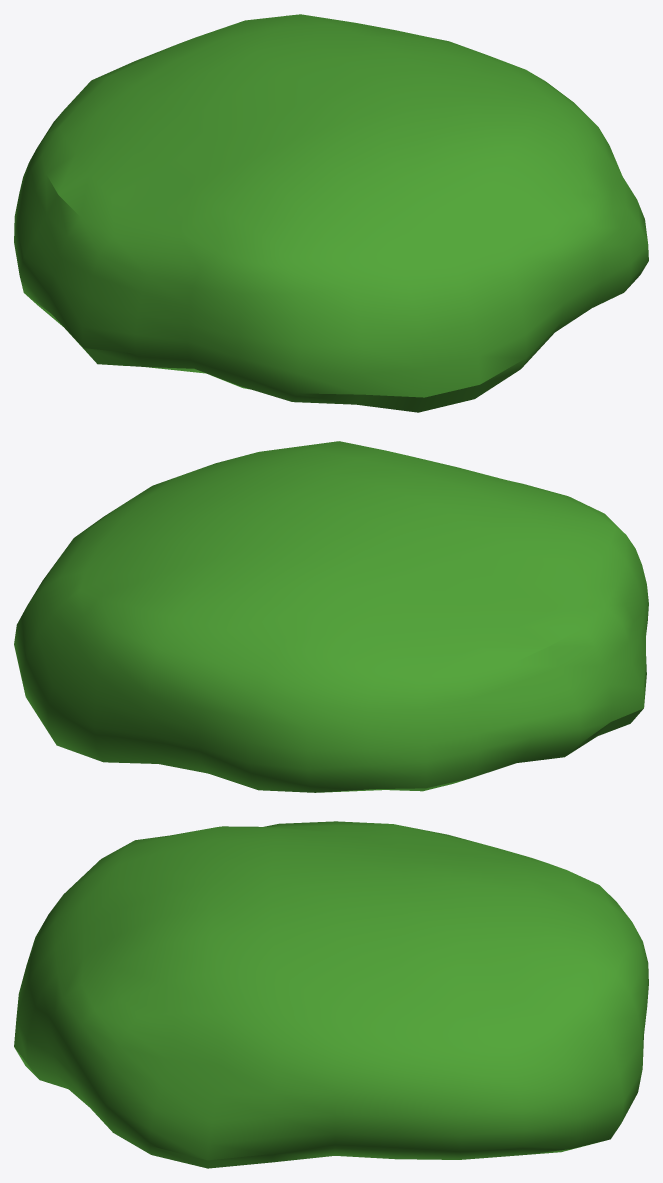
File: Cesped.fbx
3 views of the same model, one above another, from view 1: azimuth 30°, elevation 25°; view 2: azimuth 150°, elevation 25°; view 3: azimuth 270°, elevation 25° (orthographic). The views are drawn at different scales.
Parts seen in each view (by area): view 1: Cube; view 2: Cube; view 3: Cube.
Part boxes in pixels (bbox=[...]): Cube: bbox=[14, 14, 648, 412]; Cube: bbox=[14, 441, 648, 792]; Cube: bbox=[14, 821, 648, 1168].
Bounding box in the file's own units: 3740 × 1275 × 3793.
